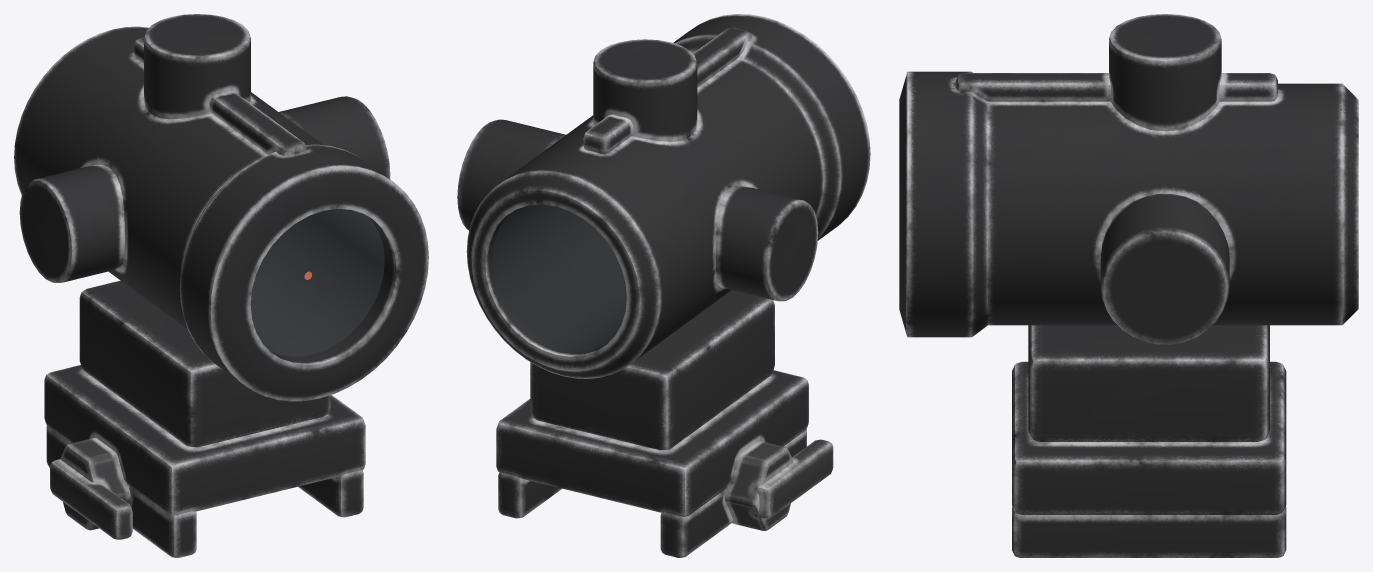
File: reddot.glb
3 renders of one model, left to right at view 1: azimuth 30°, elevation 25°; view 2: azimuth 150°, elevation 25°; view 3: azimuth 270°, elevation 25°, orthographic. The views are drawn at different scales.
Parts seen in each view (by area): view 1: body, lens_front; view 2: body, lens_rear; view 3: body.
Boxes of the visible parts, x1,y1,x2,y2 form: body: (14, 14, 428, 557); lens_front: (251, 209, 384, 356); body: (457, 14, 870, 557); lens_rear: (493, 205, 626, 350); body: (899, 14, 1358, 557).
Bounding box in the file's own units: 0.048 × 0.0652 × 0.057.
4 materials, 1 textured.
